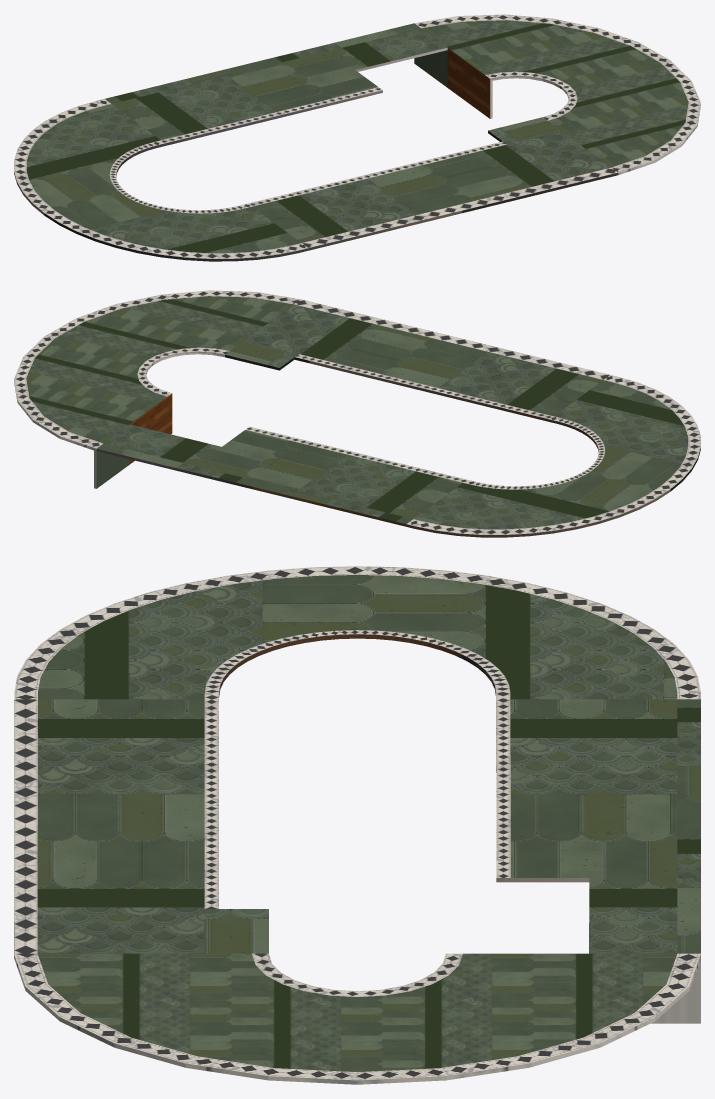
The model's file is UpperFloor.fbx.
The picture shows the model from 3 angles, top to bottom: view 1: azimuth 30°, elevation 25°; view 2: azimuth 150°, elevation 25°; view 3: azimuth 270°, elevation 25°; orthographic projection. The views are drawn at different scales.
Visible parts, largest first — view 1: Plane.023; view 2: Plane.023; view 3: Plane.023.
Part boxes in pixels (<box>): Plane.023: <box>14,14,700,261</box>; Plane.023: <box>14,290,700,537</box>; Plane.023: <box>14,566,700,1084</box>.
Bounding box in the file's own units: 25400 × 1563 × 14340.
